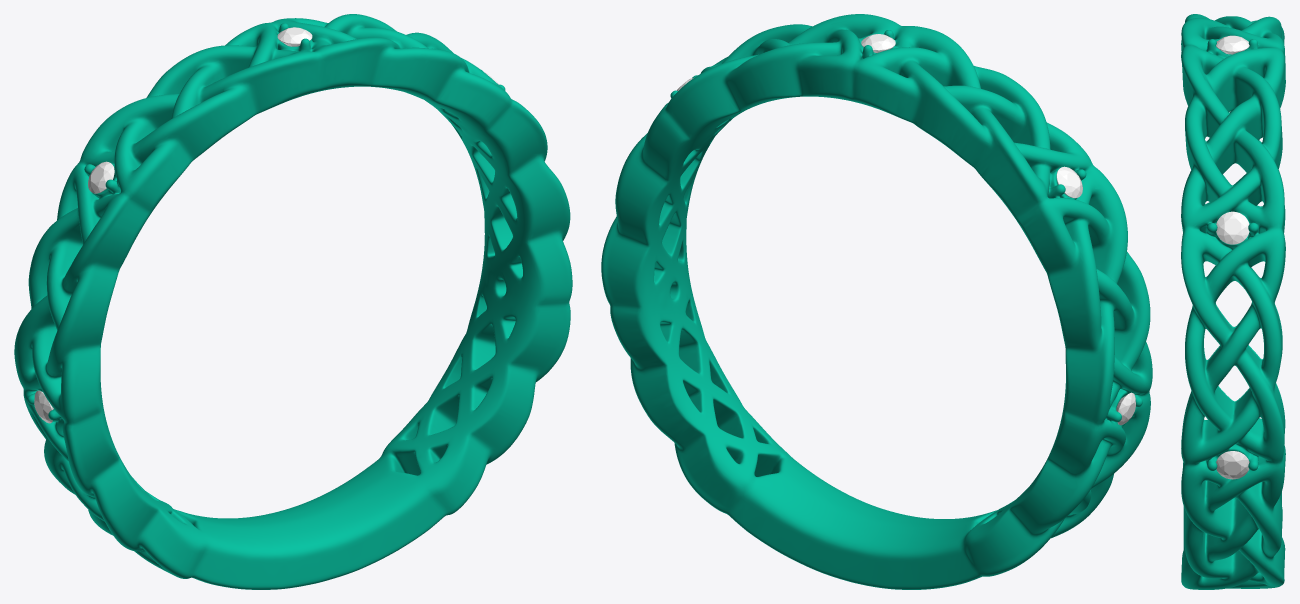
Rendered from BE2D519_RENDER.glb.
3 views of the same model, side by side, from view 1: azimuth 30°, elevation 25°; view 2: azimuth 150°, elevation 25°; view 3: azimuth 270°, elevation 25° (orthographic). The views are drawn at different scales.
Visible parts, largest first — view 1: Metal03; view 2: Metal03; view 3: Metal03, Diamond_Round_Gem_BD.004, Diamond_Round_Gem_BD.001, Diamond_Round_Gem_BD.002.
Part boxes in pixels (x1,y1,x2,y2): Metal03: [14, 14, 572, 589]; Metal03: [601, 14, 1152, 589]; Metal03: [1181, 14, 1285, 589]; Diamond_Round_Gem_BD.004: [1216, 211, 1249, 244]; Diamond_Round_Gem_BD.001: [1216, 451, 1249, 479]; Diamond_Round_Gem_BD.002: [1216, 35, 1249, 54].
Bounding box in the file's own units: 20.4 × 20.32 × 3.69.
